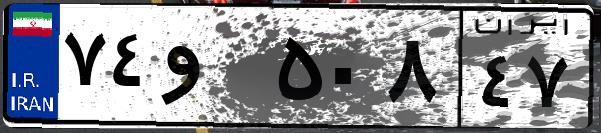0: (330, 28, 385, 110)
4: (475, 38, 525, 113), (110, 28, 158, 98)
5: (270, 28, 330, 110)
7: (57, 26, 110, 100), (525, 38, 570, 115)
8: (385, 28, 445, 110)
و: (158, 20, 270, 120)
